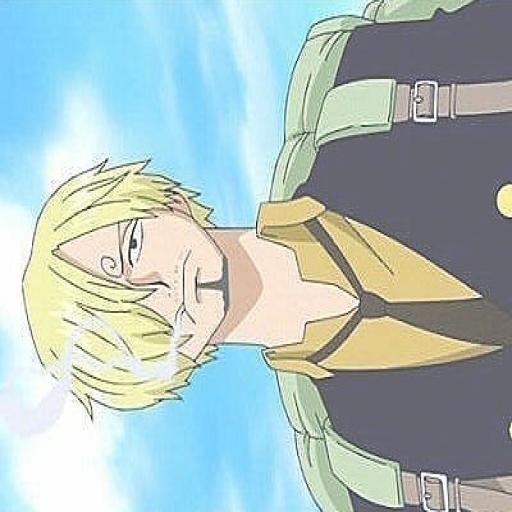sanji: (9, 0, 511, 507)
